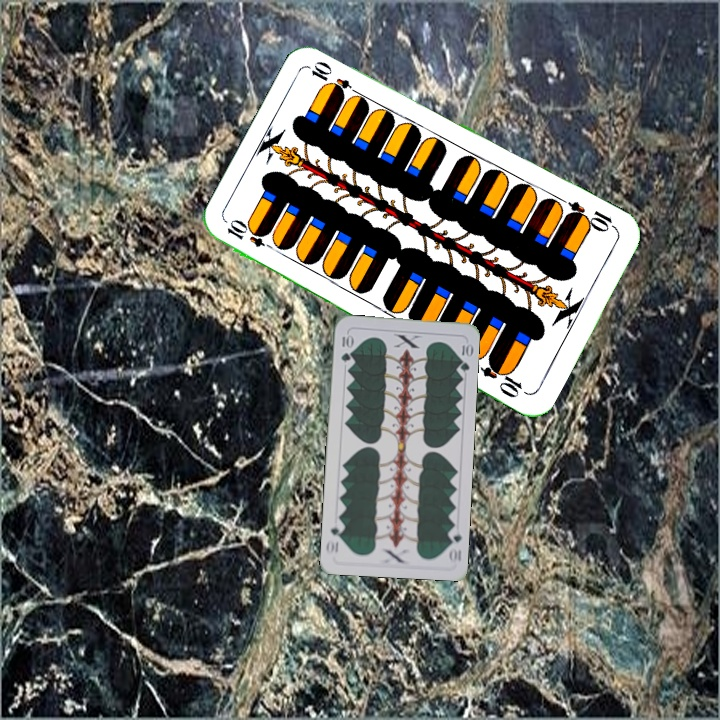E10: (562, 197, 620, 235), (223, 217, 280, 254)
G10: (444, 524, 464, 565), (337, 330, 354, 365)
